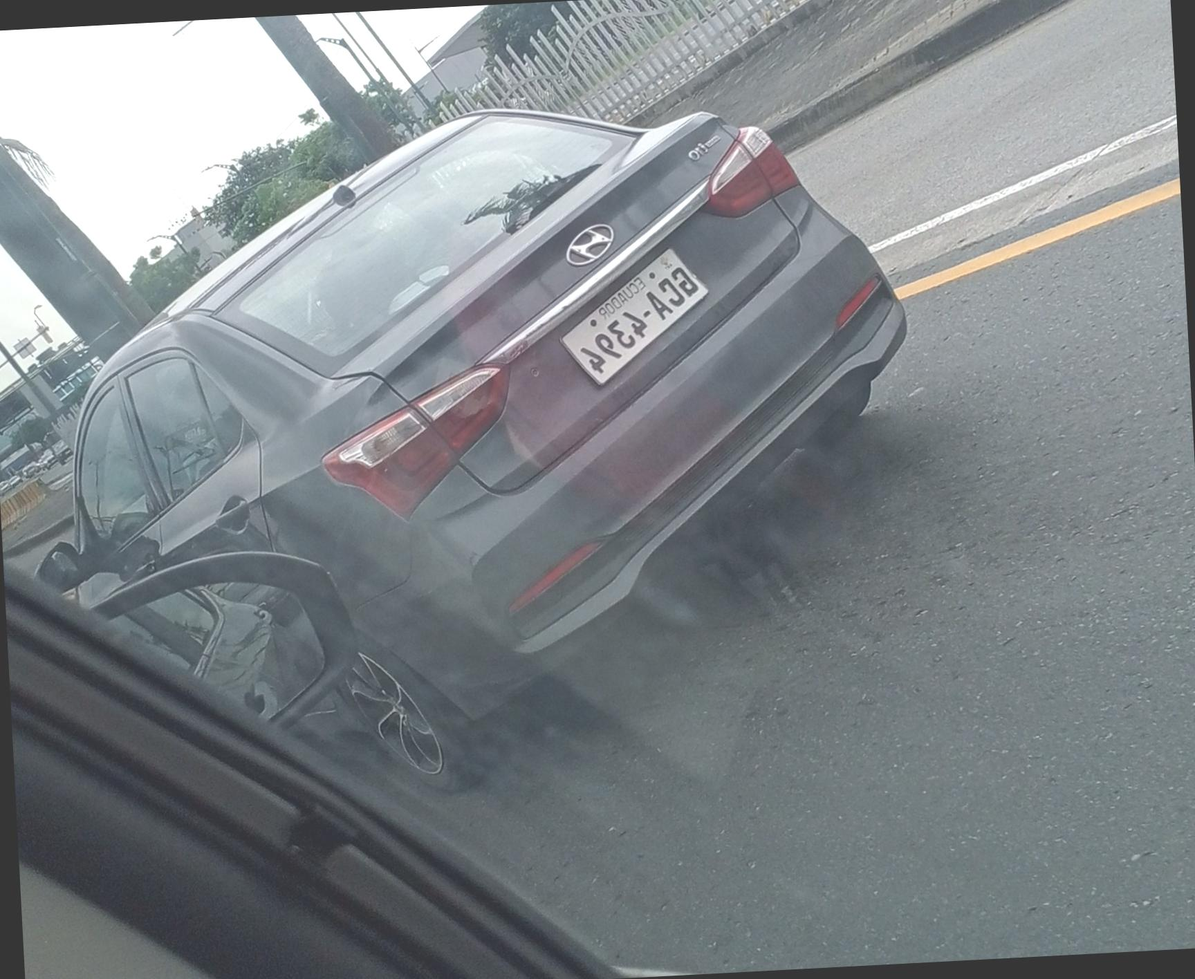license_plate: (559, 245, 717, 386)
